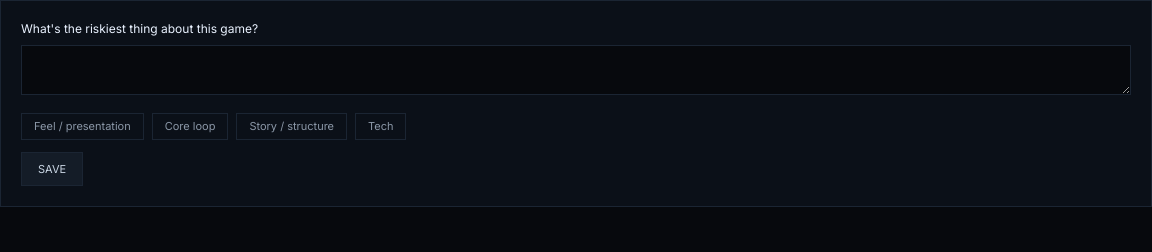
Scenario: RiskPanel › shows the recommendation for the picked kind
expect the text "Greybox the loop" is not shown: met
Click the radio button labelled "Core loop" at point(190, 126), box left=152, top=113, right=228, bottom=140
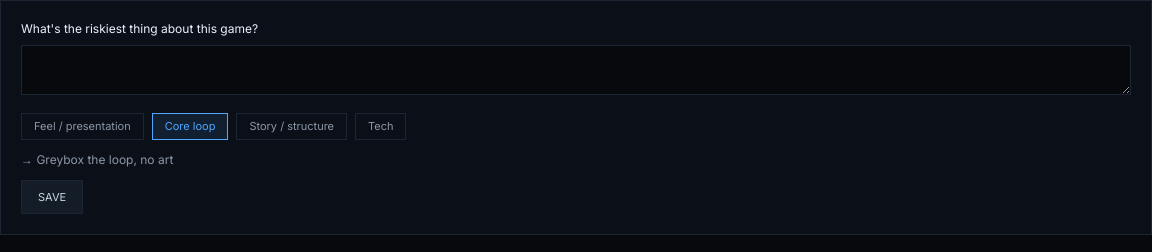
expect the text "→ Greybox the loop, no art" is shown: met, box left=21, top=152, right=173, bottom=166
